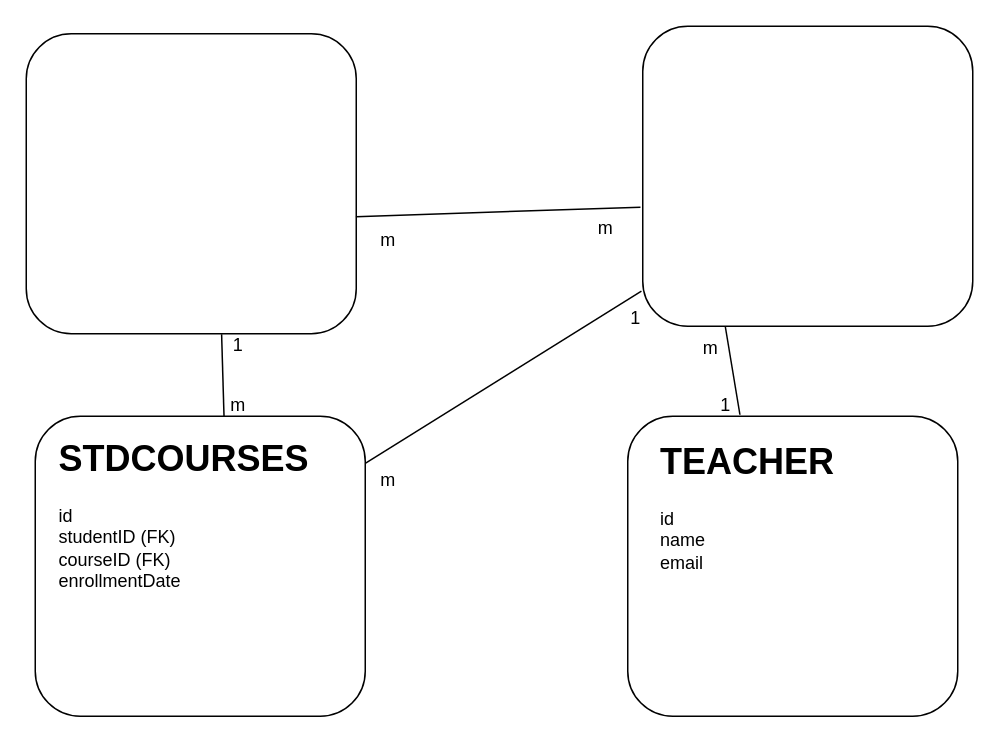
Some shapes in this 999 by 743 pixel diagram are drawn without their labels. The centre of each missing label's shape, as x and y in pixels:
COURSE id name teacherID (FK): point (807, 175)
STUDENT id name email password: point (190, 183)
